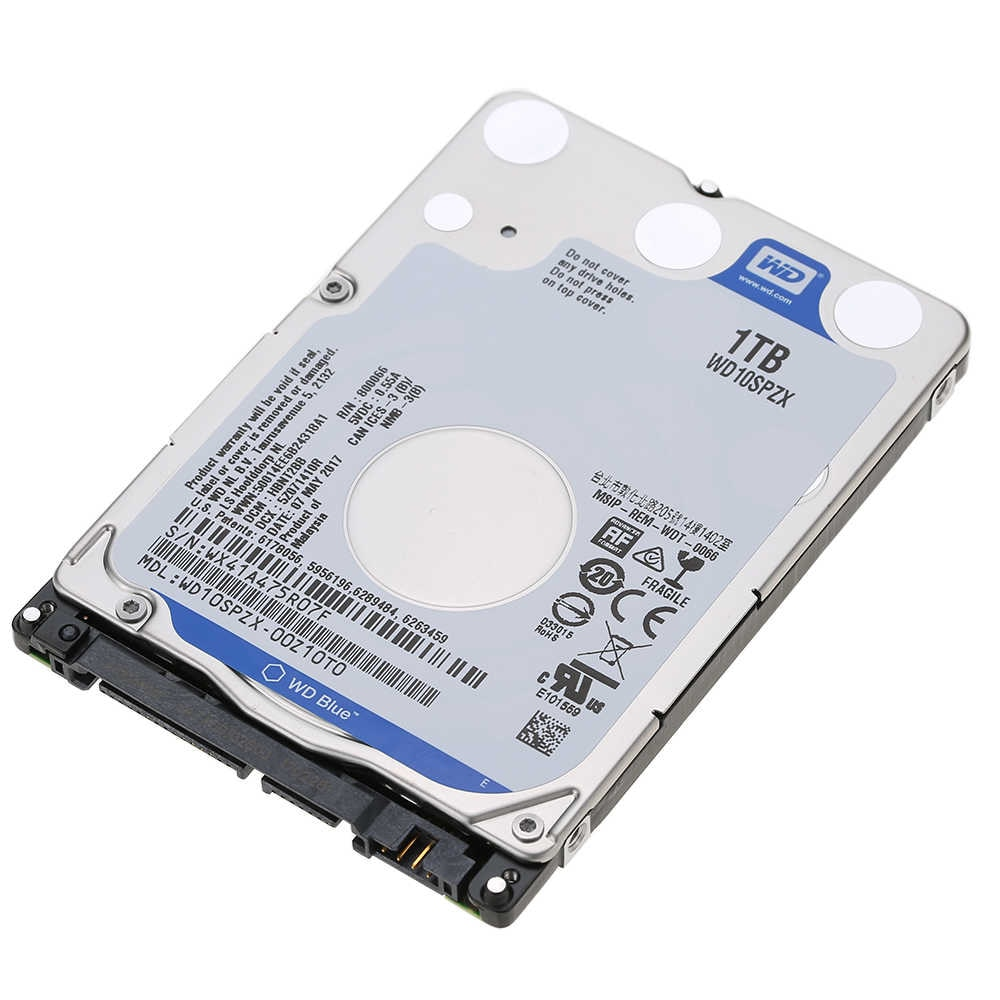2.5" Hard Drive: (1, 70, 985, 931)
SATA Hard Drive: (22, 602, 560, 932)
